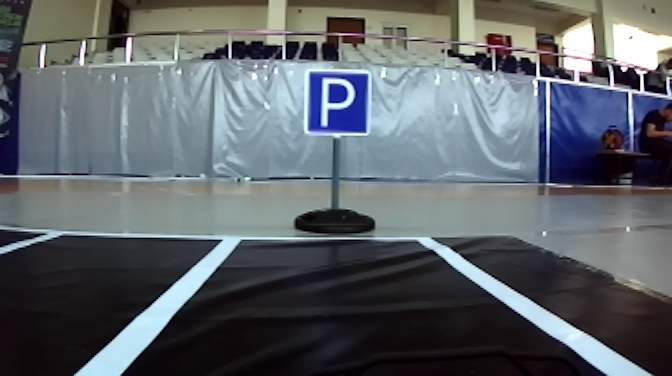park: (302, 63, 371, 137)
